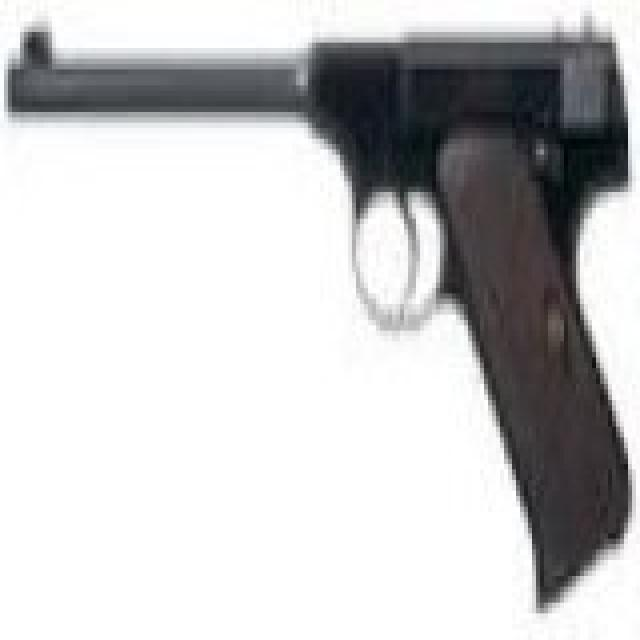Gun: (8, 10, 640, 568)
